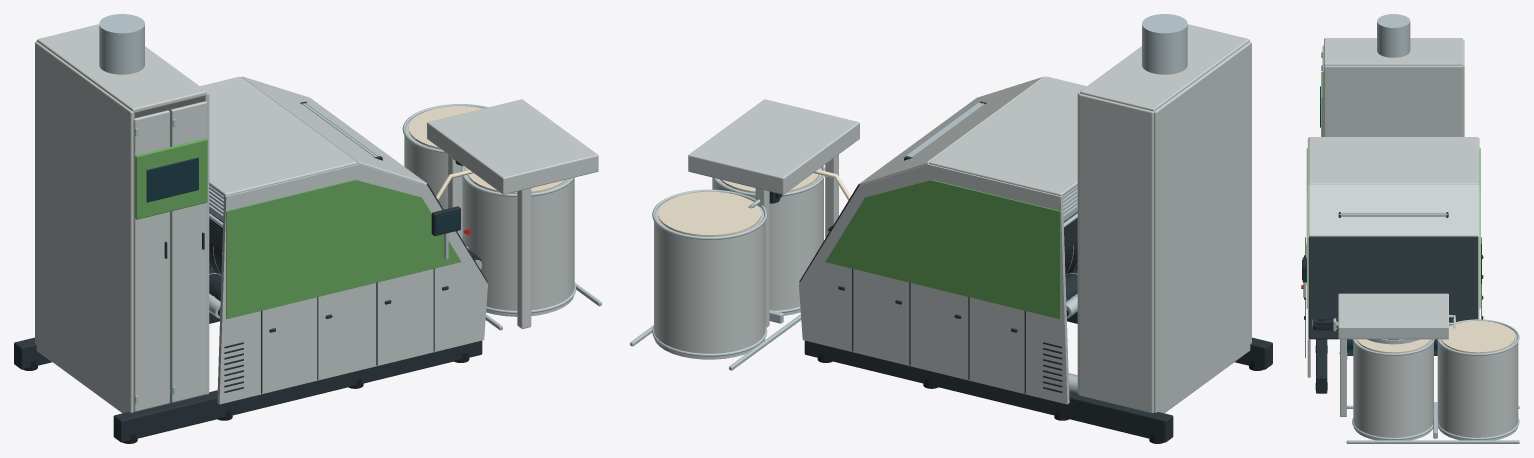
File: jingwei_jwf1217.glb
The picture shows the model from 3 angles, left to right: view 1: azimuth 30°, elevation 25°; view 2: azimuth 150°, elevation 25°; view 3: azimuth 270°, elevation 25°; orthographic projection. The views are drawn at different scales.
Visible parts, largest first — view 1: chute_end, card_side, green_inset, can_body, hood.001, coiler_cover, chute_door.001, chute_door, long_sill, chute_roof, hood, chute_green (+8 smaller); view 2: chute_end, card_side.001, chute_rear, green_inset.001, can_body.001, hood.001, coiler_cover, long_sill.001, chute_roof, can_body, sliver_surface.001, hood (+5 smaller); view 3: front_hood, chute_end.001, hood, hood.001, can_body.001, can_body, coiler_cover, chute_roof, sliver_surface.001, feed_duct, can_track.001, sliver_surface (+11 smaller).
Boxes of the visible parts, left/top/right/bottom form: chute_end: left=35, top=41, right=134, bottom=413; card_side: left=217, top=164, right=487, bottom=404; green_inset: left=226, top=179, right=461, bottom=319; can_body: left=462, top=167, right=574, bottom=316; hood.001: left=200, top=76, right=357, bottom=196; coiler_cover: left=427, top=99, right=598, bottom=194; chute_door.001: left=170, top=101, right=207, bottom=402; chute_door: left=133, top=110, right=169, bottom=411; long_sill: left=113, top=340, right=482, bottom=442; chute_roof: left=37, top=24, right=206, bottom=112; hood: left=242, top=76, right=426, bottom=185; chute_green: left=135, top=138, right=207, bottom=219; chute_end: left=1154, top=41, right=1251, bottom=413; card_side.001: left=799, top=164, right=1069, bottom=404; chute_rear: left=1078, top=93, right=1153, bottom=412; green_inset.001: left=825, top=179, right=1060, bottom=319; can_body.001: left=654, top=200, right=765, bottom=359; hood.001: left=929, top=76, right=1086, bottom=196; coiler_cover: left=688, top=99, right=859, bottom=194; long_sill.001: left=804, top=340, right=1173, bottom=442; chute_roof: left=1080, top=24, right=1249, bottom=111; can_body: left=712, top=167, right=823, bottom=315; sliver_surface.001: left=658, top=191, right=760, bottom=236; hood: left=860, top=76, right=1044, bottom=185; front_hood: left=1308, top=237, right=1478, bottom=339; chute_end.001: left=1324, top=65, right=1462, bottom=136; hood: left=1308, top=184, right=1478, bottom=236; hood.001: left=1308, top=137, right=1478, bottom=184; can_body.001: left=1437, top=328, right=1518, bottom=440; can_body: left=1353, top=339, right=1433, bottom=440; coiler_cover: left=1338, top=293, right=1448, bottom=339; chute_roof: left=1324, top=38, right=1462, bottom=65; sliver_surface.001: left=1441, top=321, right=1515, bottom=353; feed_duct: left=1377, top=14, right=1410, bottom=57; can_track.001: left=1346, top=440, right=1519, bottom=443; sliver_surface: left=1357, top=339, right=1430, bottom=353.
Size of the model in its own units: 5.18 by 3.64 by 2.7.
